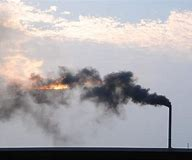smoke: (47, 67, 168, 112)
